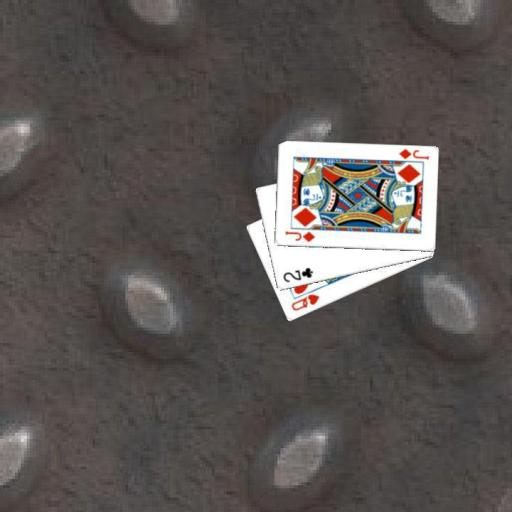card-corner: (288, 291, 321, 313), (280, 264, 314, 284), (282, 227, 316, 244), (396, 146, 430, 161)
